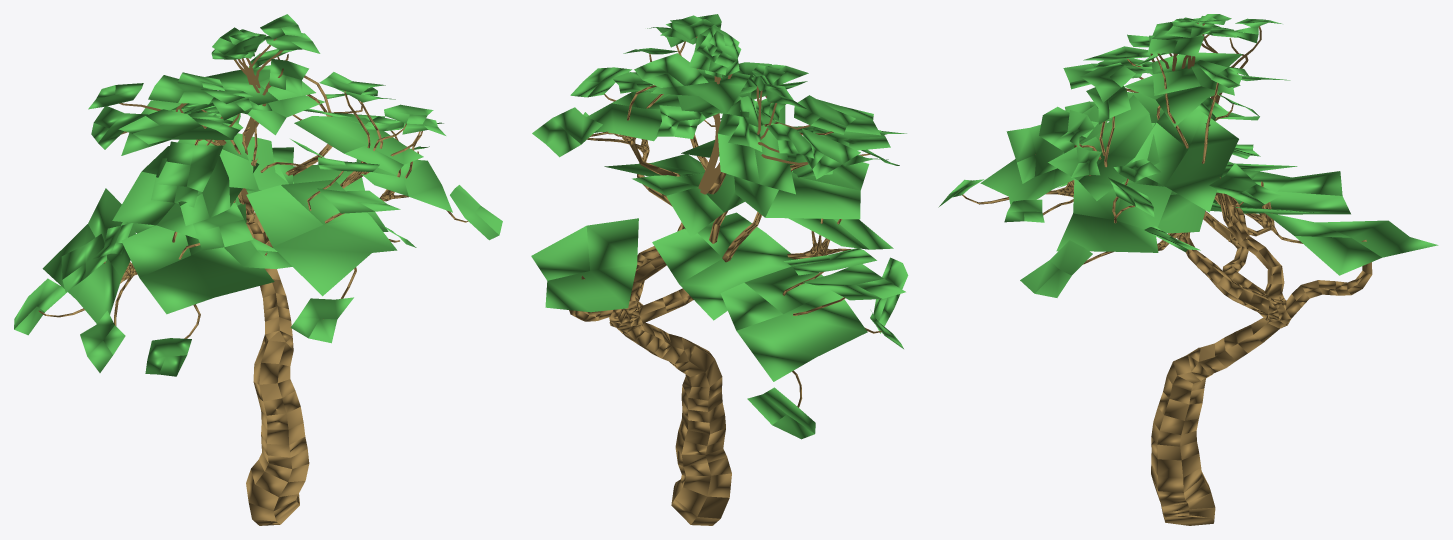
Rendered from tree_9.fbx.
3 renders of one model, left to right at view 1: azimuth 30°, elevation 25°; view 2: azimuth 150°, elevation 25°; view 3: azimuth 270°, elevation 25°, orthographic. The views are drawn at different scales.
Visible parts, largest first — view 1: tree9mesh; view 2: tree9mesh; view 3: tree9mesh.
Boxes of the visible parts, left/top/right/bottom form: tree9mesh: left=14, top=14, right=502, bottom=525; tree9mesh: left=531, top=14, right=908, bottom=525; tree9mesh: left=938, top=14, right=1438, bottom=525.
Size of the model in its own units: 134 by 170 by 151.
